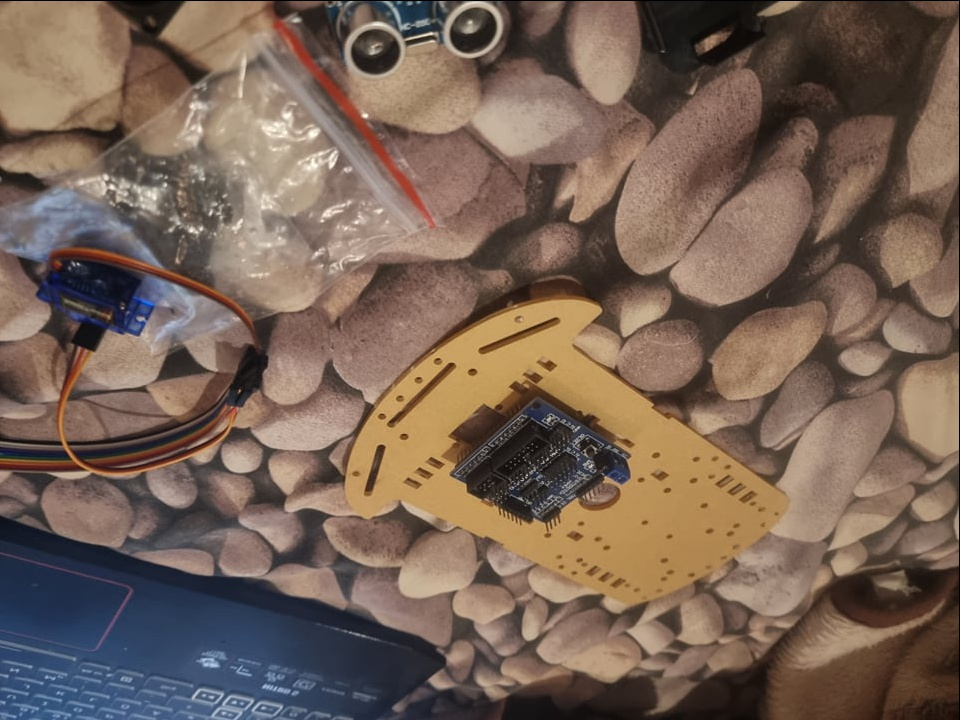5V EXPANSION: (451, 392, 631, 530)
SENSOR: (321, 0, 510, 76)
